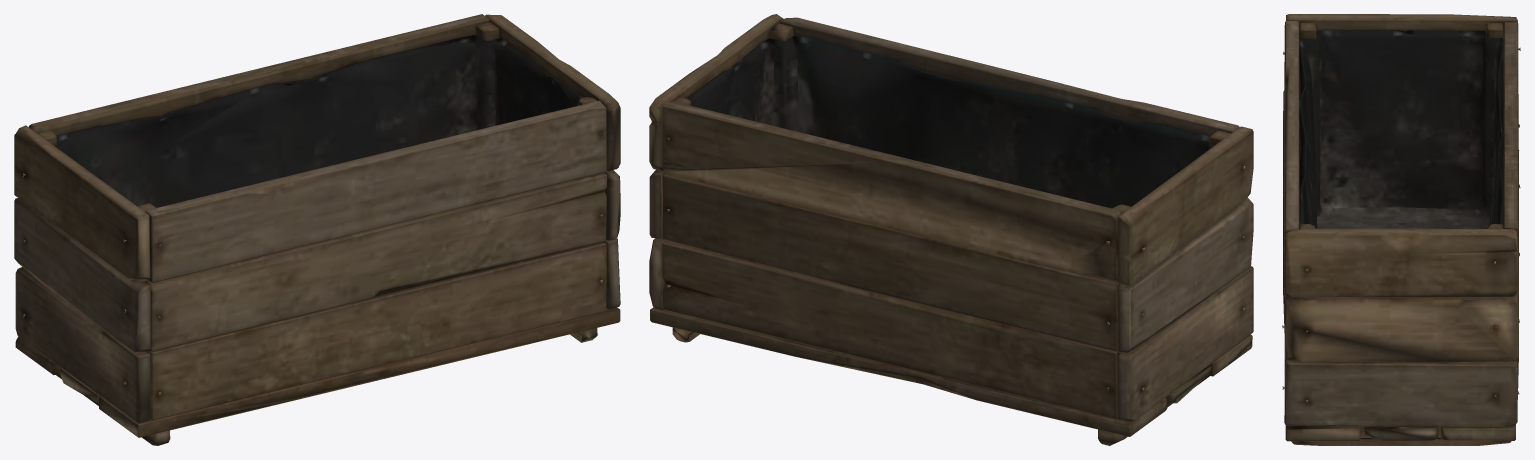
The model's file is planter_box_01.glb.
3 renders of one model, left to right at view 1: azimuth 30°, elevation 25°; view 2: azimuth 150°, elevation 25°; view 3: azimuth 270°, elevation 25°, orthographic. The views are drawn at different scales.
Parts seen in each view (by area): view 1: planter_box_01; view 2: planter_box_01; view 3: planter_box_01.
Part boxes in pixels (x1,y1,x2,y2): planter_box_01: [14, 14, 620, 445]; planter_box_01: [649, 14, 1253, 445]; planter_box_01: [1282, 14, 1520, 445].
Size of the model in its own units: 0.9126 by 0.4249 by 0.4135.
Materials: 1 (1 with a texture image).
